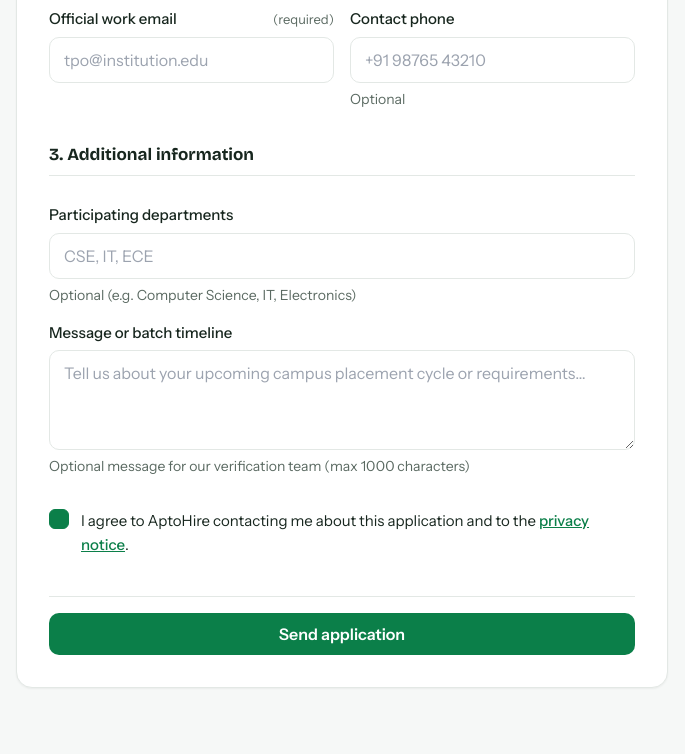
Test: ApplyUniversity form validation and submission › validates required fields and shows errors when submitted empty
(page scrolled)
Click the button "Send application": (342, 634) [49,613,635,655]
(page scrolled)
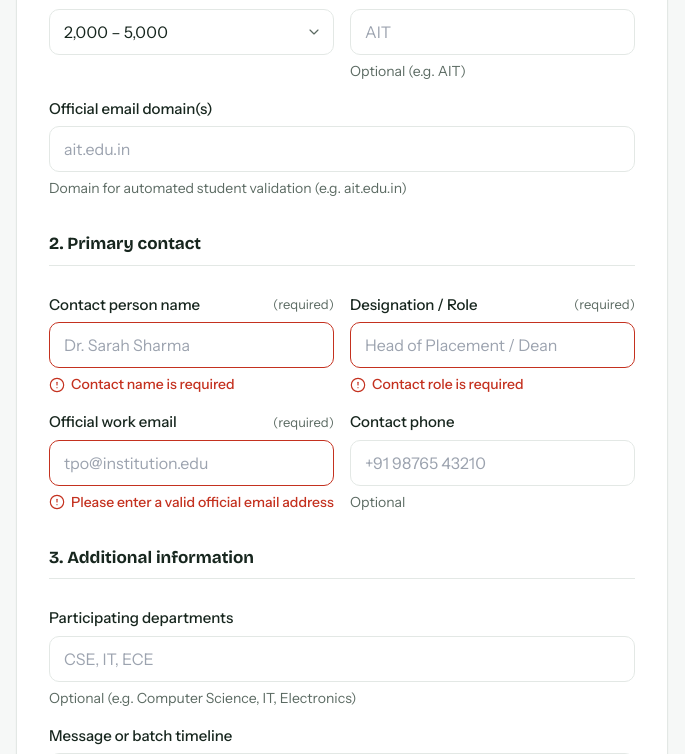
expect the text "Contact name is required" is shown: met, box [71,374,235,395]
